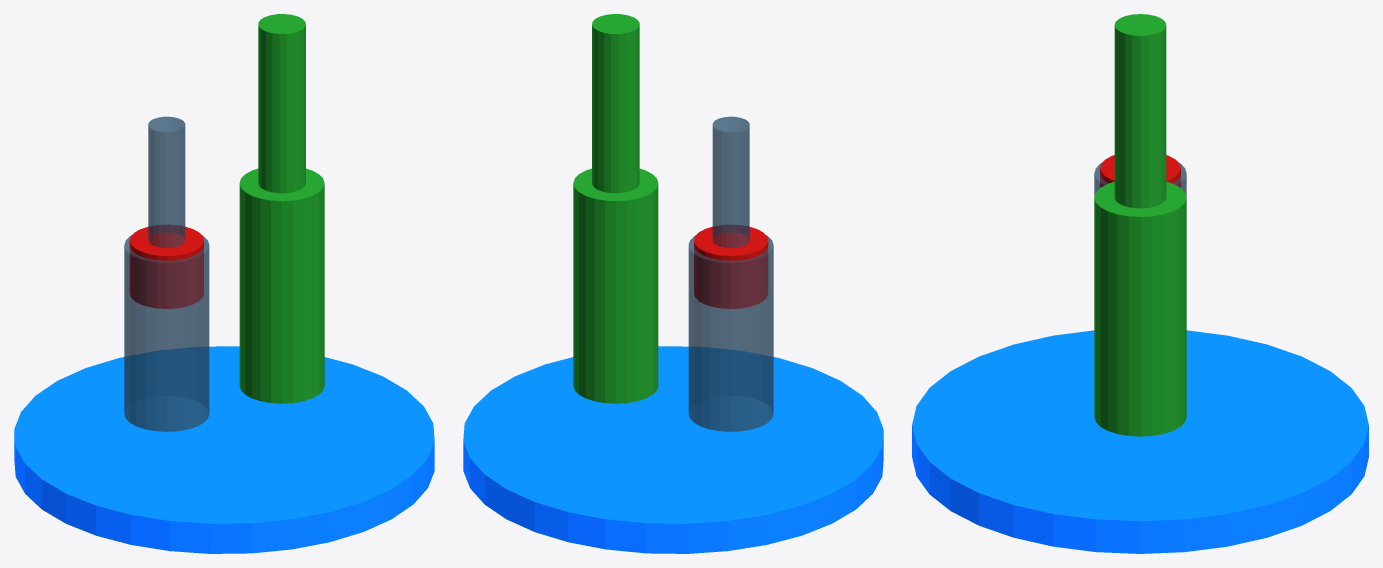
File: french_wine.dae
3 views of the same model, side by side, from view 1: azimuth 30°, elevation 25°; view 2: azimuth 150°, elevation 25°; view 3: azimuth 270°, elevation 25° (orthographic). The views are drawn at different scales.
Visible parts, largest first — view 1: 10_07_Popular_French_Wine_ROOT_base, 10_07_Popular_French_Wine_part_01, 10_07_Popular_French_Wine_part_03, 10_07_Popular_French_Wine_part_02, 10_07_Popular_French_Wine_part_05, 10_07_Popular_French_Wine_part_04; view 2: 10_07_Popular_French_Wine_ROOT_base, 10_07_Popular_French_Wine_part_01, 10_07_Popular_French_Wine_part_03, 10_07_Popular_French_Wine_part_02, 10_07_Popular_French_Wine_part_05, 10_07_Popular_French_Wine_part_04; view 3: 10_07_Popular_French_Wine_ROOT_base, 10_07_Popular_French_Wine_part_01, 10_07_Popular_French_Wine_part_02, 10_07_Popular_French_Wine_part_05.
Part boxes in pixels (x1,y1,x2,y2): 10_07_Popular_French_Wine_ROOT_base: (14, 346, 434, 553); 10_07_Popular_French_Wine_part_01: (239, 168, 324, 403); 10_07_Popular_French_Wine_part_03: (124, 235, 209, 431); 10_07_Popular_French_Wine_part_02: (258, 14, 305, 193); 10_07_Popular_French_Wine_part_05: (129, 225, 203, 308); 10_07_Popular_French_Wine_part_04: (148, 116, 185, 247); 10_07_Popular_French_Wine_ROOT_base: (463, 346, 883, 553); 10_07_Popular_French_Wine_part_01: (573, 168, 658, 403); 10_07_Popular_French_Wine_part_03: (688, 235, 773, 431); 10_07_Popular_French_Wine_part_02: (592, 14, 639, 193); 10_07_Popular_French_Wine_part_05: (694, 225, 768, 308); 10_07_Popular_French_Wine_part_04: (712, 116, 749, 247); 10_07_Popular_French_Wine_ROOT_base: (912, 330, 1368, 553); 10_07_Popular_French_Wine_part_01: (1094, 181, 1186, 436); 10_07_Popular_French_Wine_part_02: (1114, 14, 1166, 208); 10_07_Popular_French_Wine_part_05: (1100, 155, 1180, 187).
Size of the model in its own units: 0.76 by 0.85 by 0.76.
